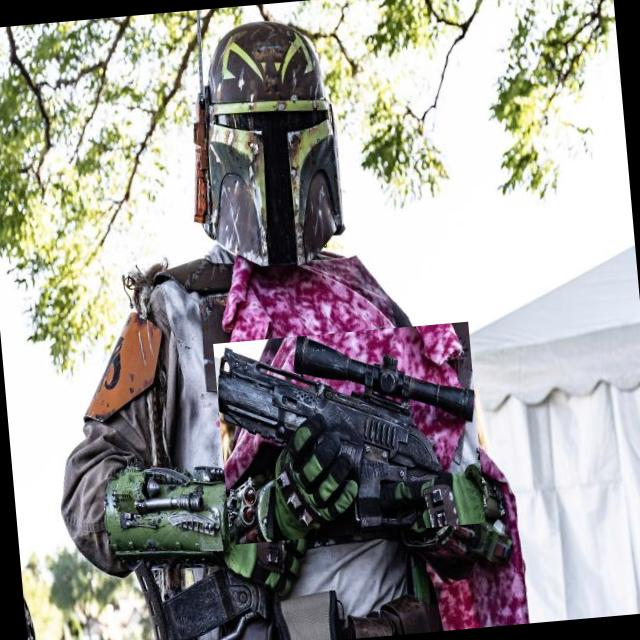Gun: (216, 336, 474, 532), (137, 557, 281, 640)
